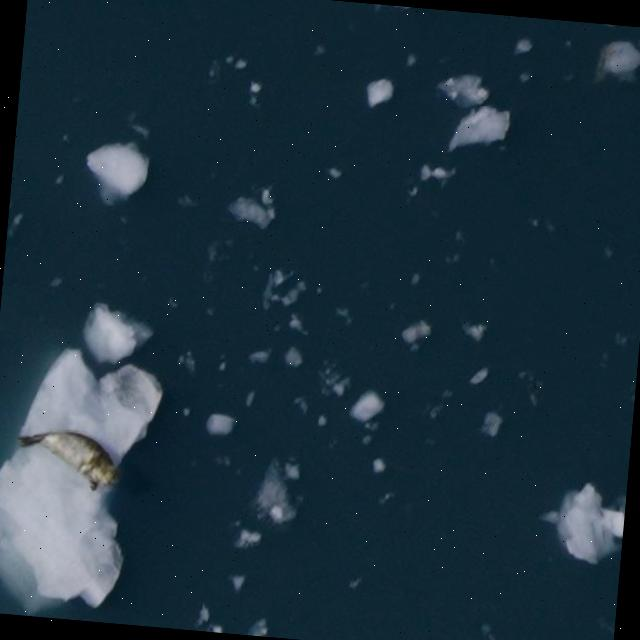seal: (17, 429, 120, 490)
